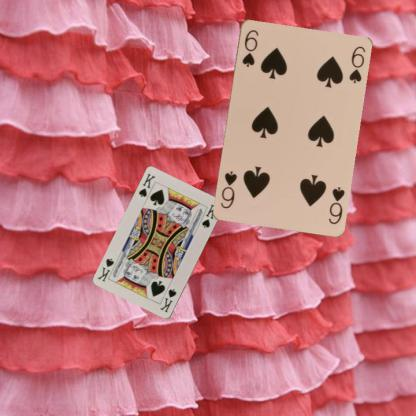6s: (325, 184, 346, 225), (240, 27, 260, 68)
Ks: (136, 171, 157, 199), (158, 286, 178, 314)
